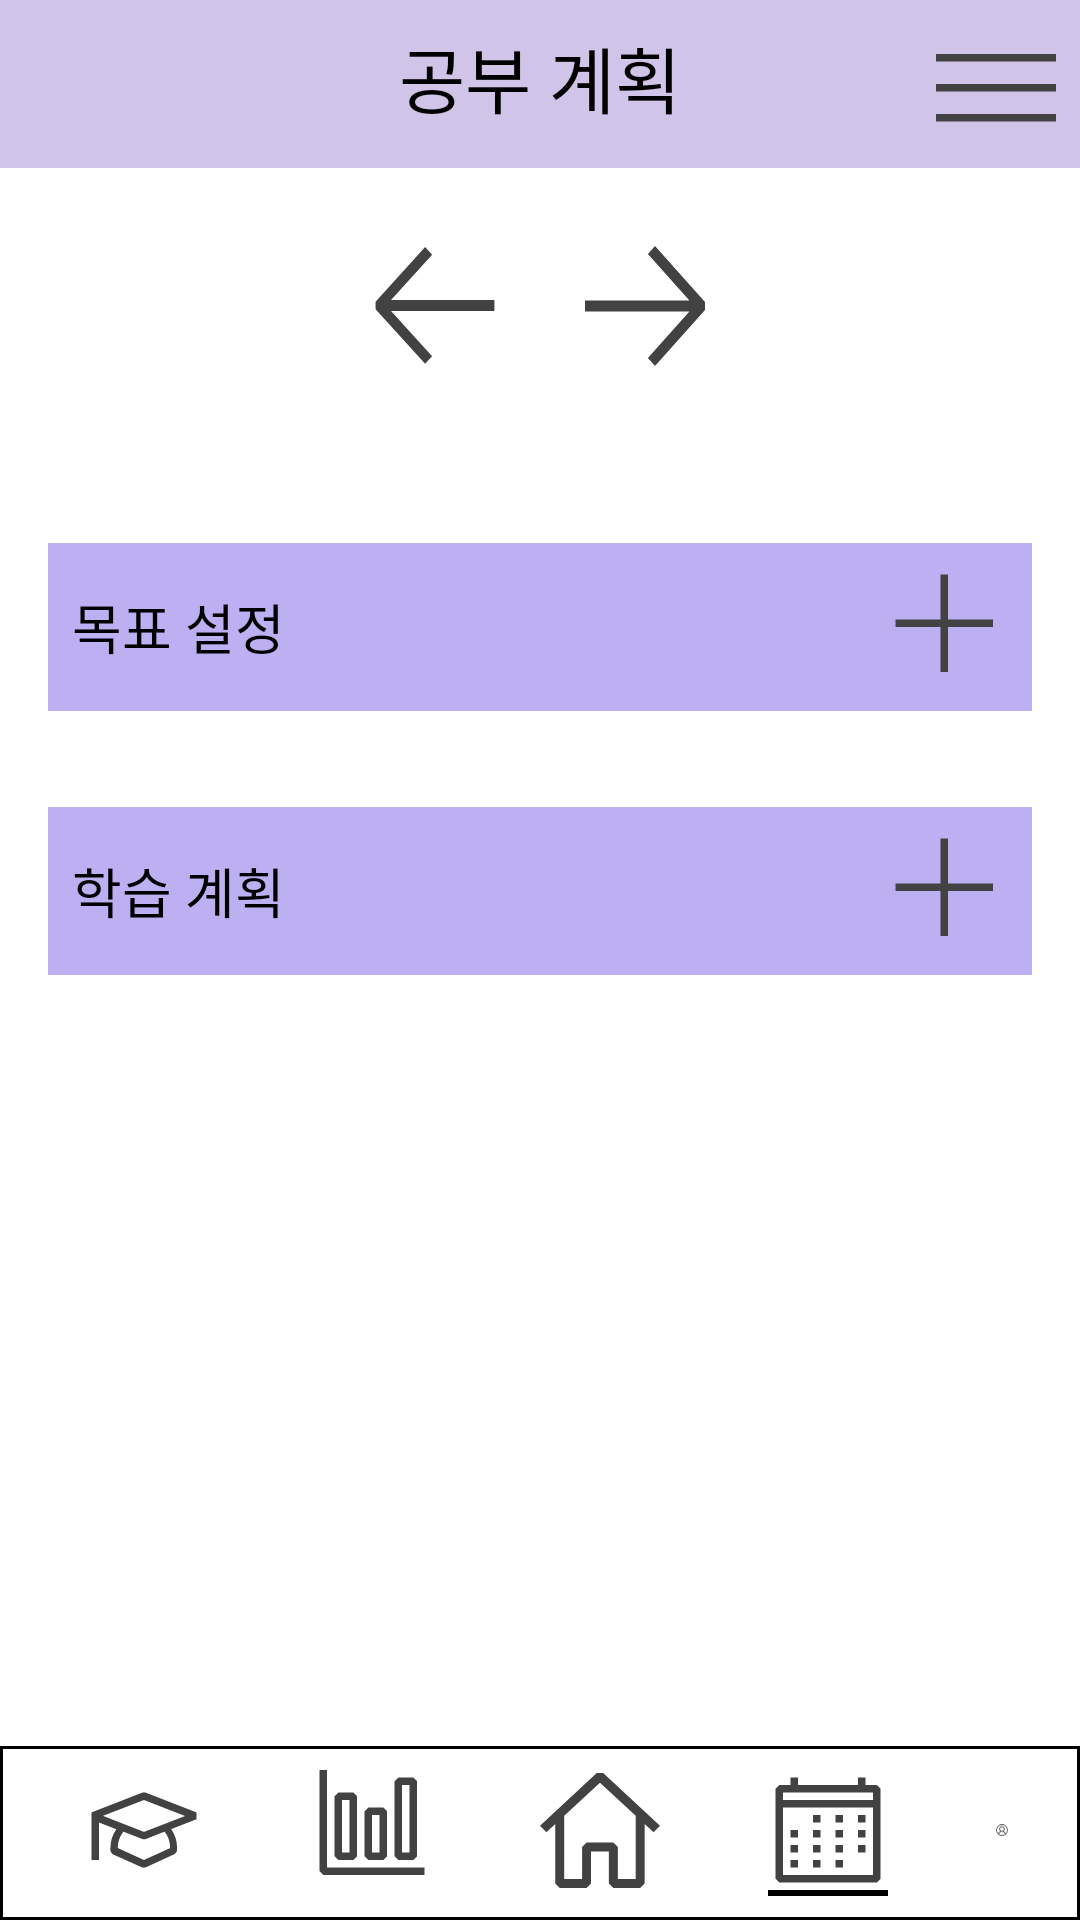

Screen size 1080 x 1920. Icon name, then its center in pixels as point (x, y):
add: point (944, 623), point (944, 887)
hamburger: point (996, 88)
home: point (600, 1830)
plan: point (828, 1830)
statistics: point (372, 1822)
